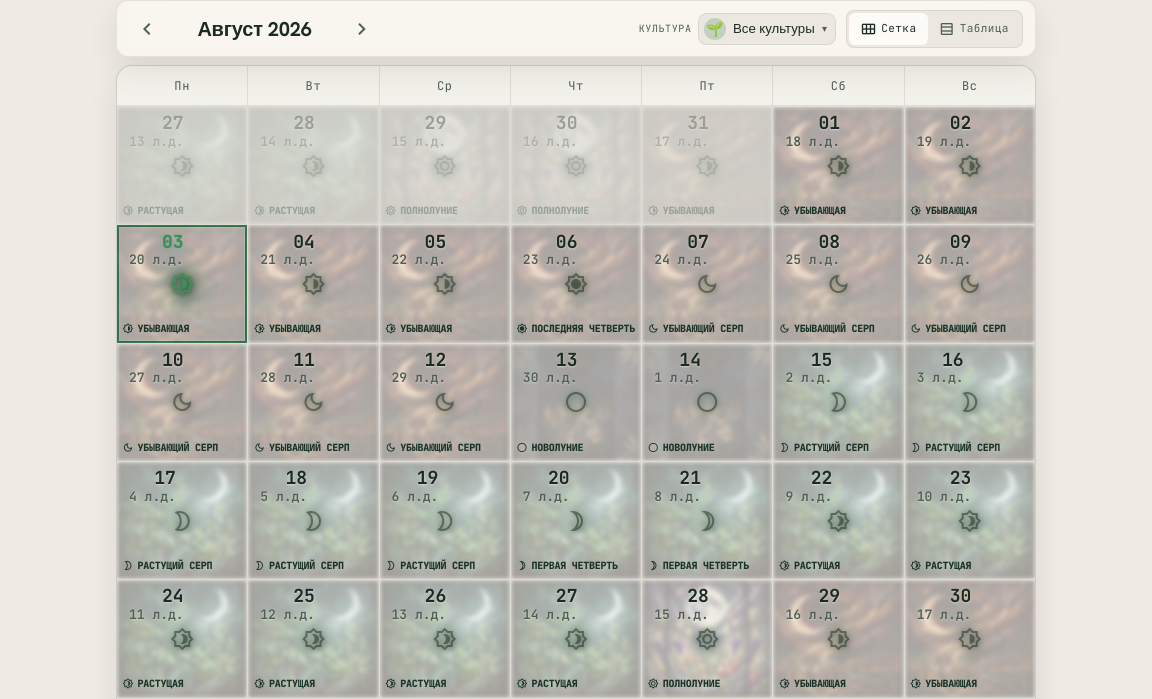
Test case: MoonCalendar - Интерактивность › 2.3 Сменить культуру: выбор культуры изменяет метку выбора
The width and height of the screenshot is (1152, 699).
What coordinates should you click on to do the following:
click the button with aria-label "Культура: Все культуры"
I would click on:
 (767, 29)
Its box is 698,13 -> 836,45.
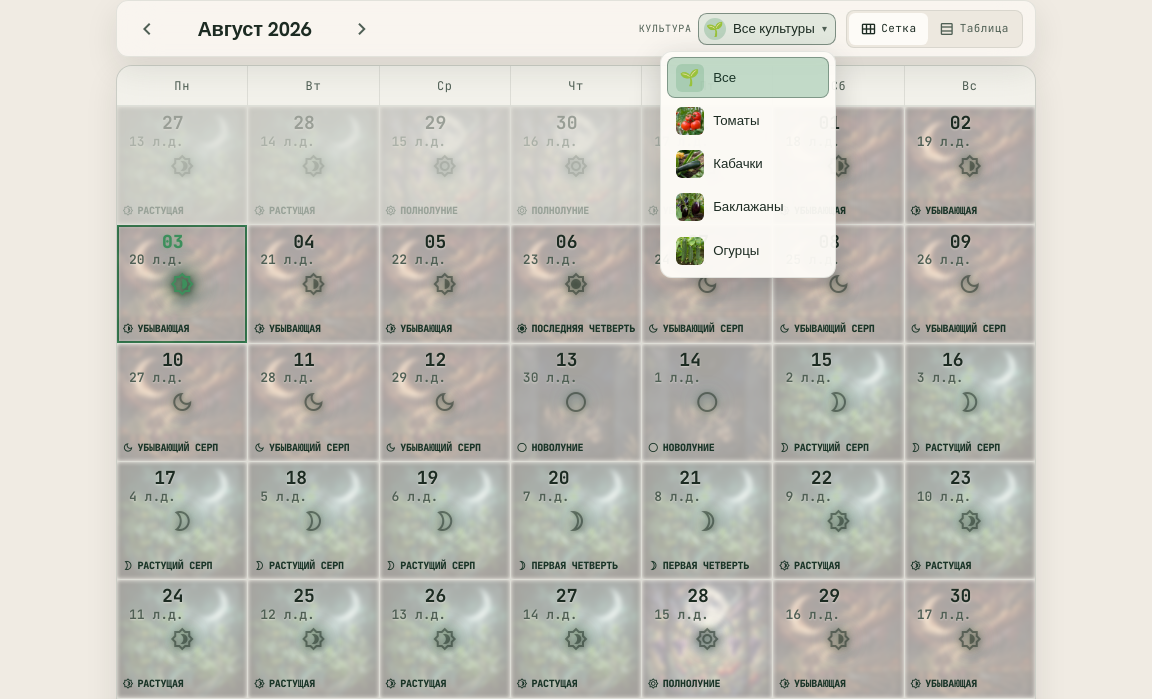
Expected: the list named "Выберите культуру" is shown, 660,51 -> 836,278
What coordinates should you click on to do the following:
click the option "Томаты"
I would click on:
 (748, 121)
Its box is 667,100 -> 829,142.
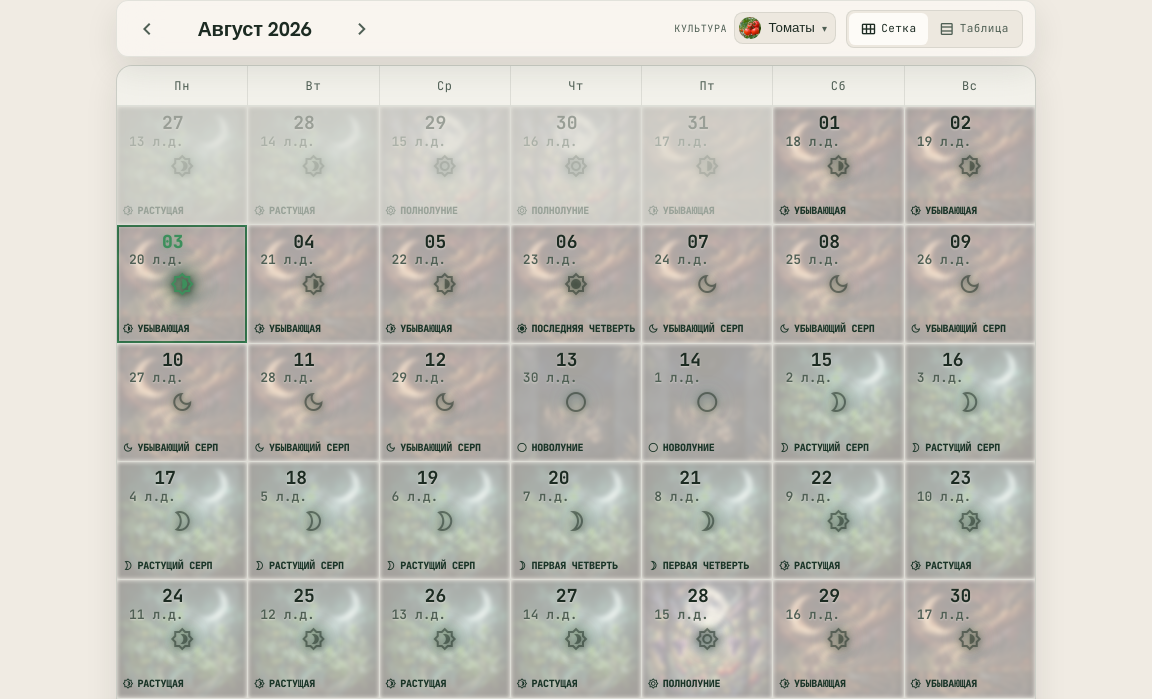
Expected: the button with aria-label "Культура: Томат" is shown, 734,12 -> 836,44
